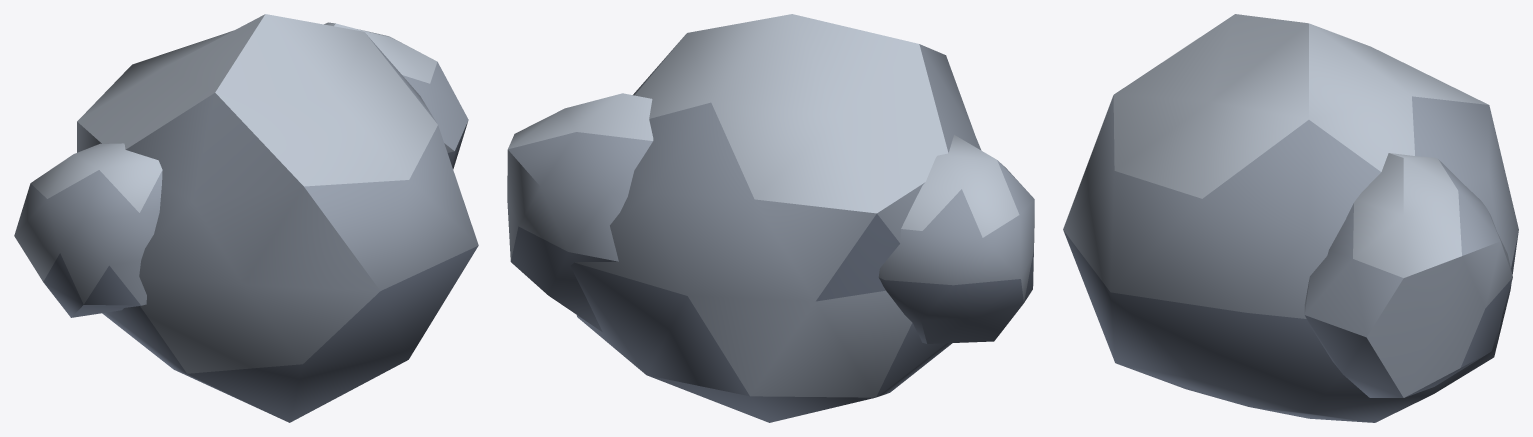
The model's file is rock_a.fbx.
3 views of the same model, side by side, from view 1: azimuth 30°, elevation 25°; view 2: azimuth 150°, elevation 25°; view 3: azimuth 270°, elevation 25° (orthographic). The views are drawn at different scales.
Parts seen in each view (by area): view 1: rock_a; view 2: rock_a; view 3: rock_a.
Boxes of the visible parts, x1=… form: rock_a: x1=14, y1=14, x2=478, y2=422; rock_a: x1=507, y1=14, x2=1034, y2=422; rock_a: x1=1063, y1=14, x2=1518, y2=422.
Bounding box in the file's own units: 1.06 × 0.806 × 0.8422.
